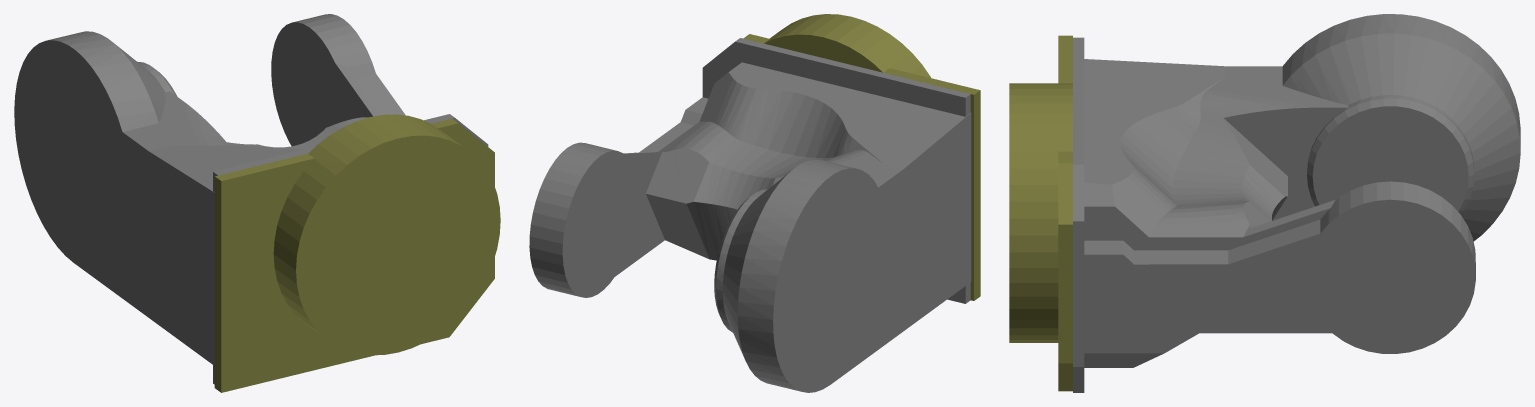
The model's file is LLEG_LINK0_mesh.dae.
The picture shows the model from 3 angles, left to right: view 1: azimuth 30°, elevation 25°; view 2: azimuth 150°, elevation 25°; view 3: azimuth 270°, elevation 25°; orthographic projection. The views are drawn at different scales.
Visible parts, largest first — view 1: LLEG_LINK0 (×2); view 2: LLEG_LINK0 (×2); view 3: LLEG_LINK0 (×2).
Boxes of the visible parts, left/top/right/bottom form: LLEG_LINK0 (×2): left=14, top=14, right=500, bottom=392; LLEG_LINK0 (×2): left=529, top=14, right=980, bottom=392; LLEG_LINK0 (×2): left=1009, top=14, right=1520, bottom=392.
Size of the model in its own units: 0.1203 by 0.098 by 0.177.
